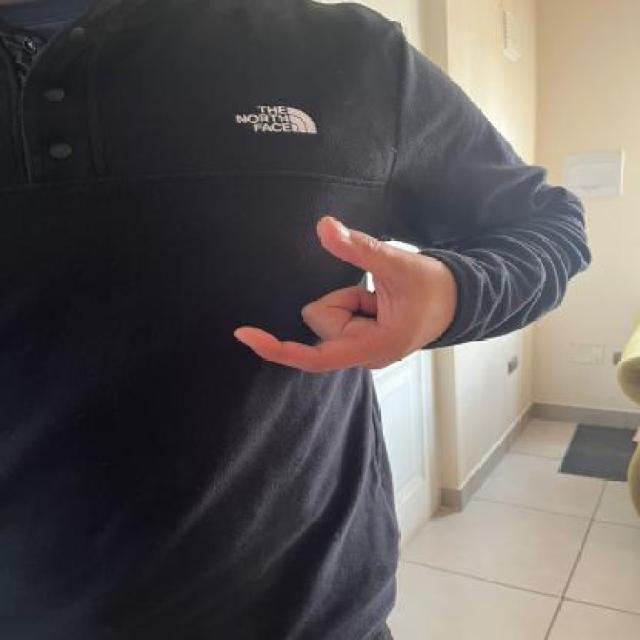G: (224, 208, 462, 386)
